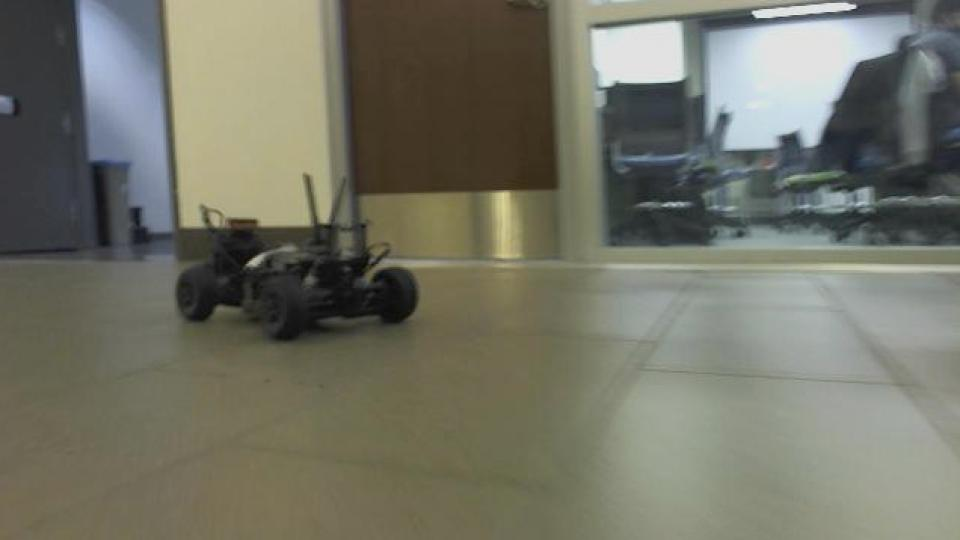car: (171, 170, 421, 342)
